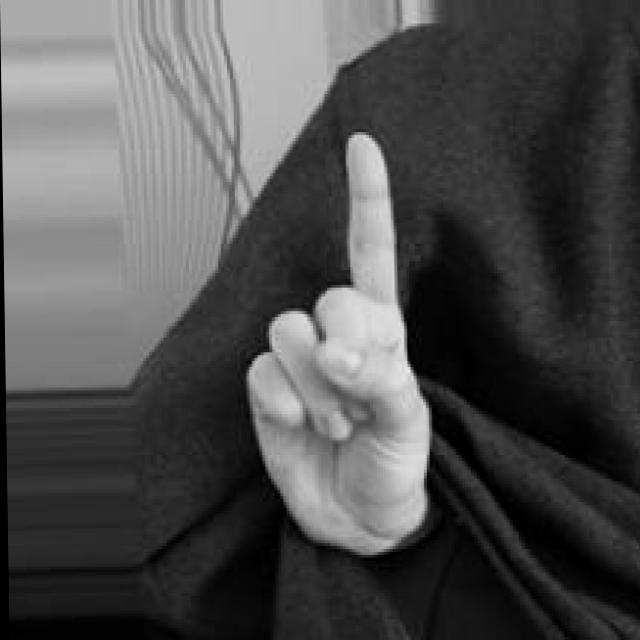I: (233, 125, 441, 562)
